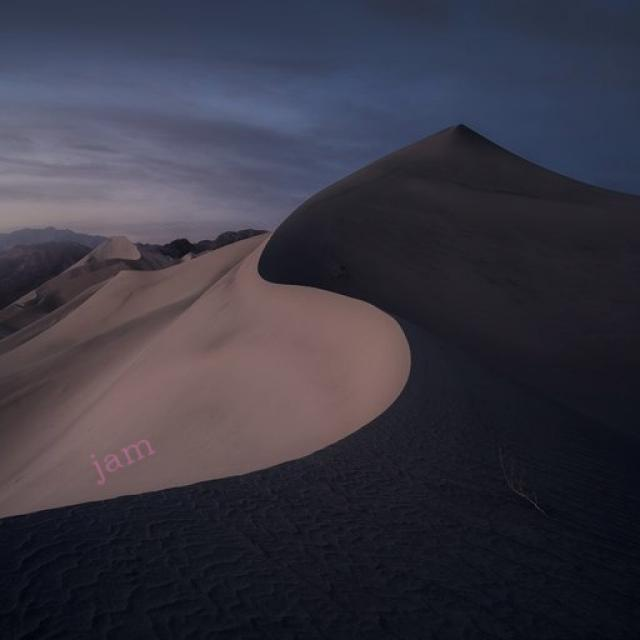watermark: (86, 424, 156, 484)
